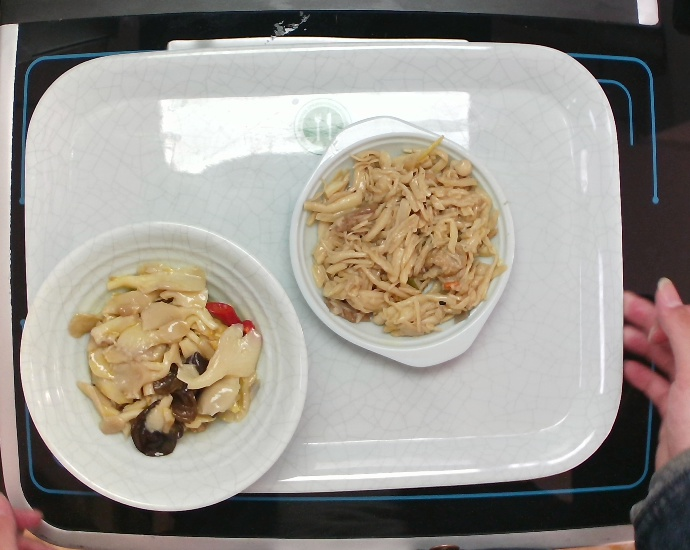JYsf-Shuang_Er_Pan: (282, 111, 521, 378)
JYsf-Xiao_Tang_Wan: (11, 219, 312, 520)
